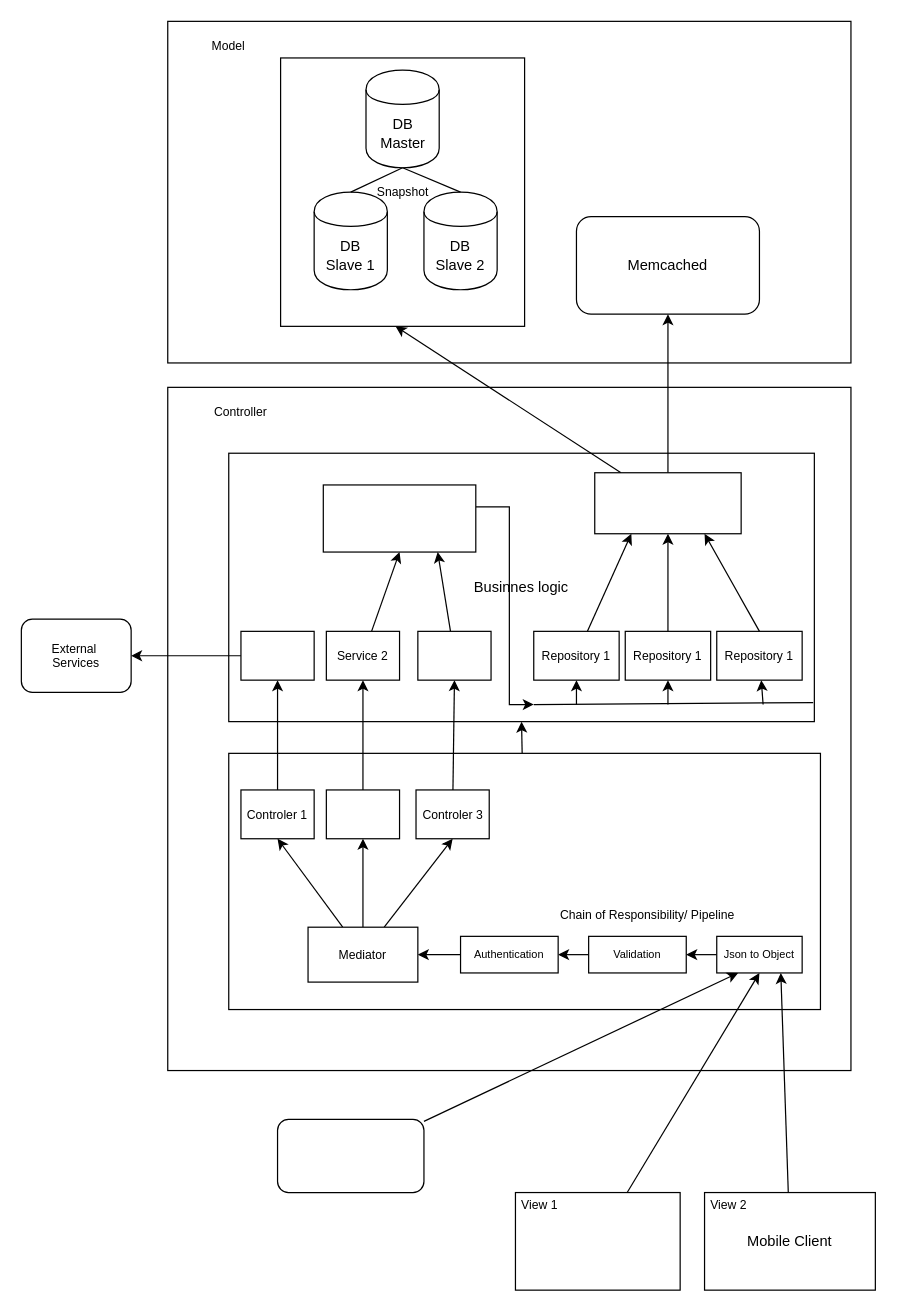
Image size: 897x1312. Some labels were removed from this diagram. The box of each missing label's shape, as (x1, y1, x2, y2) in pixels:
Adapter (Data transfer object to Entity): (322, 484, 476, 552)
Controler 2: (325, 789, 400, 839)
Integration services: (276, 1118, 424, 1193)
Proxy: (594, 472, 741, 534)
Server Client API: (228, 752, 820, 1010)
Service 1: (240, 630, 314, 680)
Service 3: (417, 630, 491, 680)
Web Client: (514, 1191, 680, 1290)
